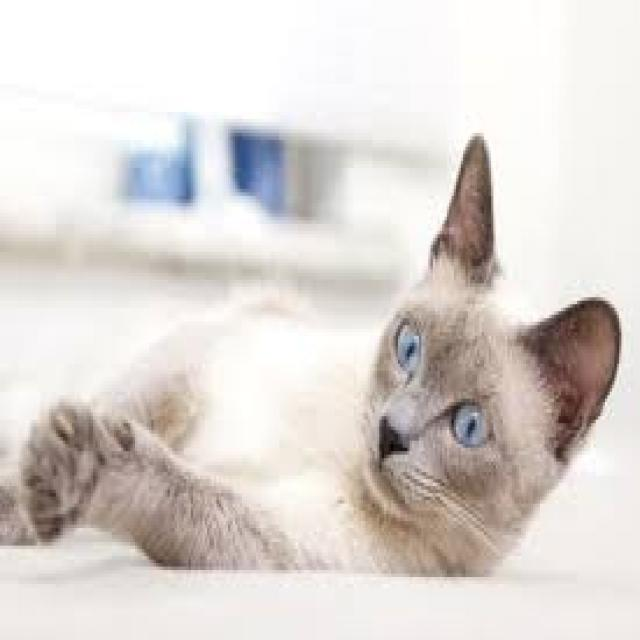Cat: (0, 125, 625, 579)
